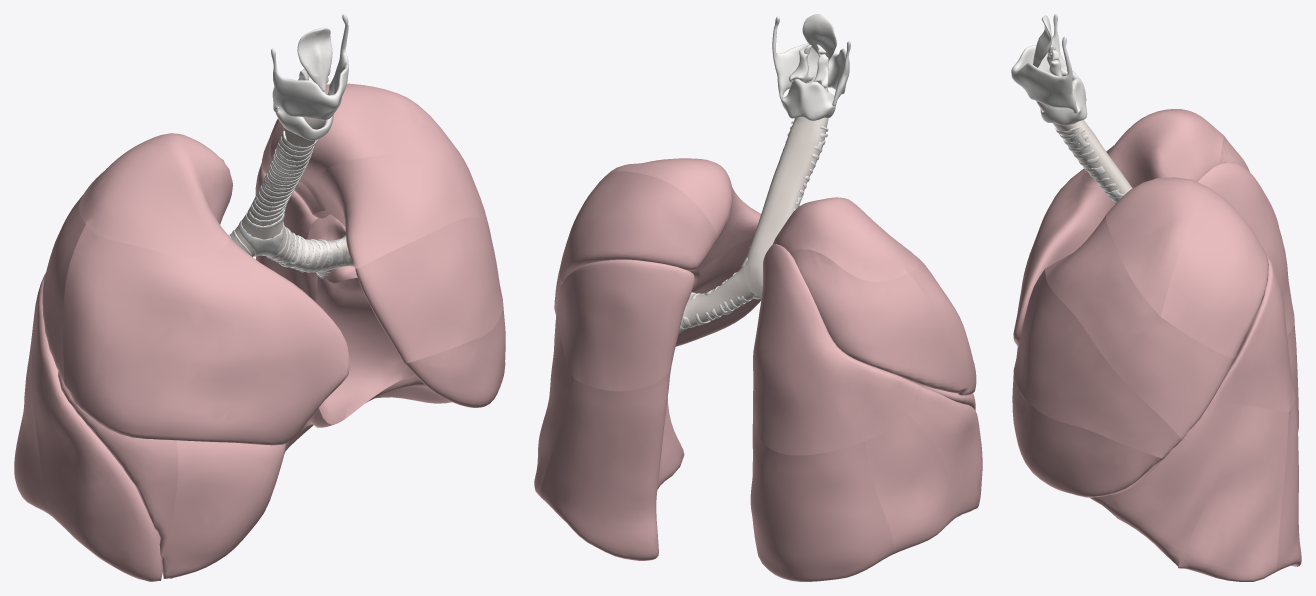
Rendered from lungs.glb.
3 renders of one model, left to right at view 1: azimuth 30°, elevation 25°; view 2: azimuth 150°, elevation 25°; view 3: azimuth 270°, elevation 25°, orthographic. The views are drawn at different scales.
Parts seen in each view (by area): view 1: VH_F_hilum_L, VH_F_corniculate_cartilage_L, VH_F_trachea, VH_F_lungs_left_main_bronchus; view 2: VH_F_hilum_L, VH_F_corniculate_cartilage_L, VH_F_trachea, VH_F_lungs_left_main_bronchus; view 3: VH_F_hilum_L, VH_F_corniculate_cartilage_L, VH_F_trachea.
Part boxes in pixels (<box>): VH_F_hilum_L: <box>14,83,505,581</box>; VH_F_corniculate_cartilage_L: <box>228,14,354,278</box>; VH_F_trachea: <box>235,117,326,255</box>; VH_F_lungs_left_main_bronchus: <box>230,228,353,276</box>; VH_F_hilum_L: <box>534,158,982,581</box>; VH_F_corniculate_cartilage_L: <box>679,14,850,333</box>; VH_F_trachea: <box>743,87,828,298</box>; VH_F_lungs_left_main_bronchus: <box>680,266,753,328</box>; VH_F_hilum_L: <box>1012,109,1301,581</box>; VH_F_corniculate_cartilage_L: <box>1011,14,1124,204</box>; VH_F_trachea: <box>1036,101,1132,202</box>.
Bounding box in the file's own units: 0.2511 × 0.2968 × 0.1531.
